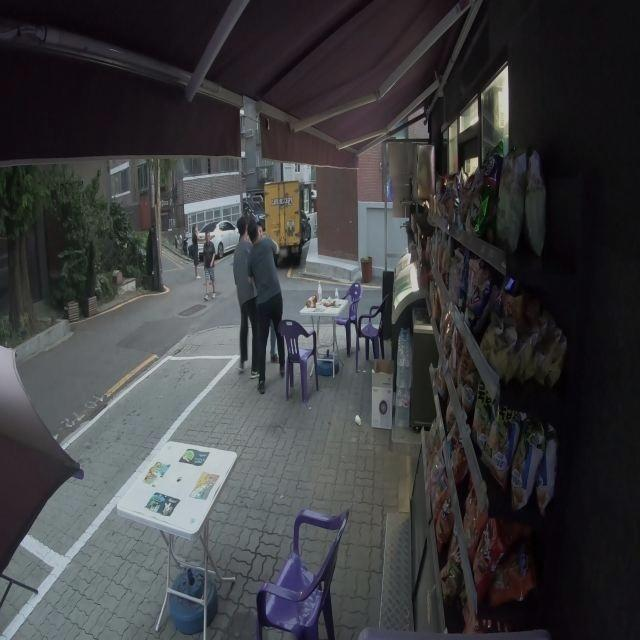fight: (229, 216, 288, 393)
non-fight: (200, 230, 219, 301)
